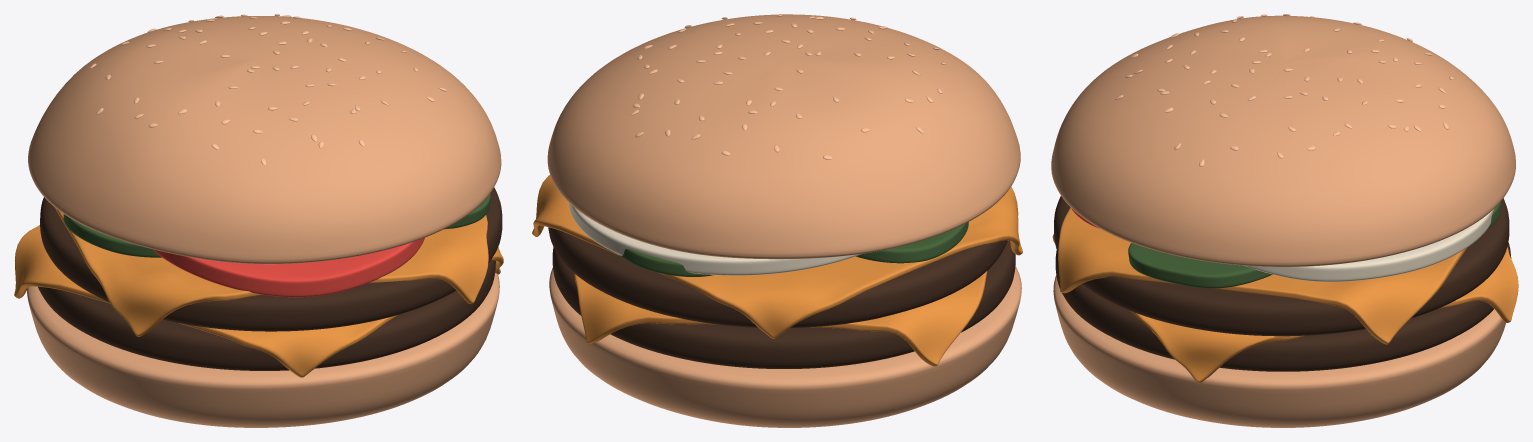
The model's file is newHamburger.glb.
3 views of the same model, side by side, from view 1: azimuth 30°, elevation 25°; view 2: azimuth 150°, elevation 25°; view 3: azimuth 270°, elevation 25° (orthographic).
Parts seen in each view (by area): view 1: Hamburger, Patty_bottom, Patty_top, Cheese_top, Cheese_bottom, Tomato, Pickle.001, Pickle.002; view 2: Hamburger, Patty_top, Cheese_top, Patty_bottom, Cheese_bottom, Onion, Pickle.001, Pickle; view 3: Hamburger, Patty_top, Cheese_top, Patty_bottom, Cheese_bottom, Onion, Pickle.002.
Part boxes in pixels (box(x1,y1,x2,y2)): Hamburger: box(27, 16, 501, 427); Patty_bottom: box(38, 260, 495, 370); Patty_top: box(40, 187, 502, 331); Cheese_top: box(54, 207, 488, 336); Cheese_bottom: box(14, 225, 503, 377); Tomato: box(153, 237, 424, 297); Pickle.001: box(63, 214, 161, 257); Pickle.002: box(444, 193, 490, 229); Hamburger: box(547, 14, 1021, 427); Patty_top: box(548, 227, 1007, 327); Cheese_top: box(532, 175, 1022, 338); Patty_bottom: box(552, 240, 1015, 368); Cheese_bottom: box(574, 271, 987, 366); Onion: box(568, 203, 861, 275); Pickle.001: box(856, 222, 968, 263); Pickle: box(619, 249, 713, 276); Hamburger: box(1051, 15, 1515, 427); Patty_top: box(1054, 196, 1509, 336); Cheese_top: box(1058, 207, 1466, 344); Patty_bottom: box(1055, 242, 1511, 371); Cheese_bottom: box(1052, 234, 1518, 383); Onion: box(1244, 208, 1494, 281); Pickle.002: box(1128, 243, 1272, 288).
Size of the model in its own units: 0.2018 by 0.1389 by 0.1984.
